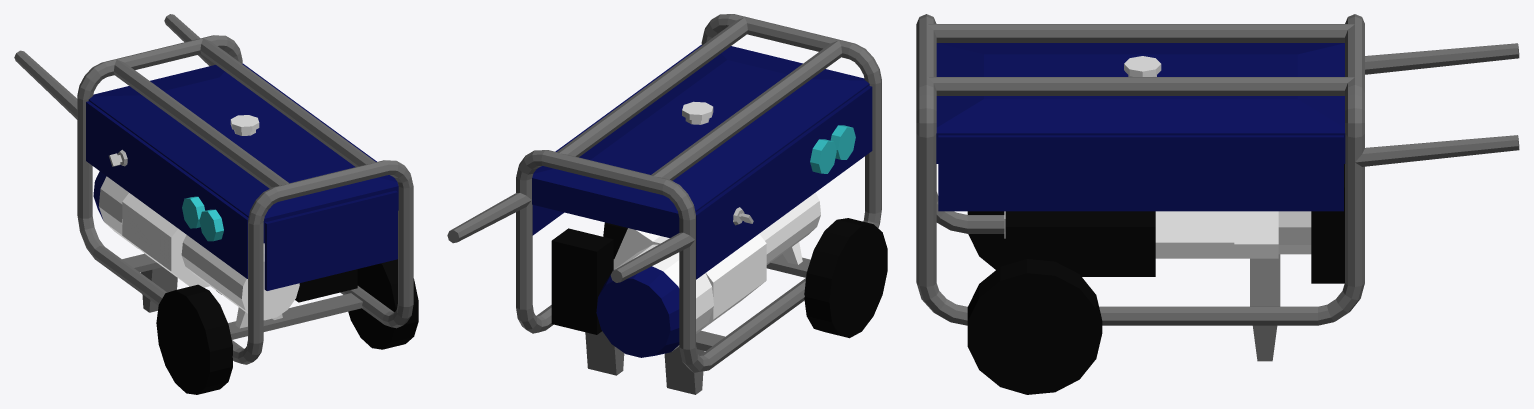
The model's file is MESH_Folgorazione_Generatore.fbx.
3 views of the same model, side by side, from view 1: azimuth 30°, elevation 25°; view 2: azimuth 150°, elevation 25°; view 3: azimuth 270°, elevation 25° (orthographic). The views are drawn at different scales.
Parts seen in each view (by area): view 1: Serbatoio, Telaio_esterno, Ruote, Motore, Maniglie, Protezione1, Prese, Piedini, Tappo_Serbatoio; view 2: Serbatoio, Telaio_esterno, Ruote, Motore, Copertura_Motore, Protezione2, Maniglie, Piedini, Prese, Tappo_Serbatoio; view 3: Serbatoio, Telaio_esterno, Ruote, Protezione1, Motore, Maniglie, Protezione2, Piedini, Tappo_Serbatoio.
Boxes of the visible parts, <box> form: Serbatoio: <box>86,63,398,290</box>; Telaio_esterno: <box>77,35,413,364</box>; Ruote: <box>156,259,418,394</box>; Motore: <box>98,176,299,328</box>; Maniglie: <box>14,14,215,119</box>; Protezione1: <box>295,269,357,302</box>; Prese: <box>182,196,223,241</box>; Piedini: <box>141,267,221,312</box>; Tappo_Serbatoio: <box>230,115,259,135</box>; Serbatoio: <box>532,45,872,279</box>; Telaio_esterno: <box>516,14,881,372</box>; Ruote: <box>603,218,887,338</box>; Motore: <box>613,192,820,351</box>; Copertura_Motore: <box>596,266,679,357</box>; Protezione2: <box>551,228,613,334</box>; Maniglie: <box>447,193,694,282</box>; Piedini: <box>585,331,704,394</box>; Prese: <box>810,125,855,173</box>; Tappo_Serbatoio: <box>682,101,713,124</box>; Serbatoio: <box>936,43,1345,211</box>; Telaio_esterno: <box>916,14,1364,325</box>; Ruote: <box>967,211,1102,394</box>; Protezione1: <box>1005,211,1155,276</box>; Motore: <box>1004,211,1311,258</box>; Maniglie: <box>1355,43,1519,166</box>; Protezione2: <box>1311,164,1344,283</box>; Piedini: <box>1253,325,1277,361</box>; Tappo_Serbatoio: <box>1124,56,1161,76</box>.
Size of what is drawn, in the model's own units: 76.44 by 78.16 by 152.
